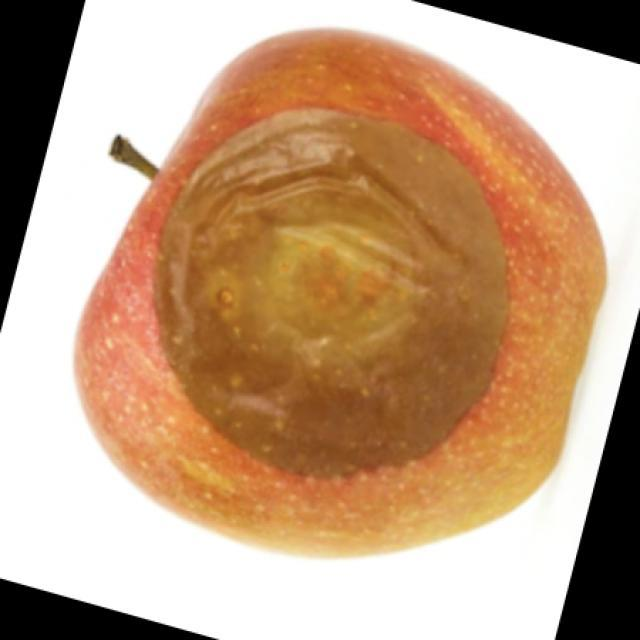Rotten: (78, 36, 615, 532)
